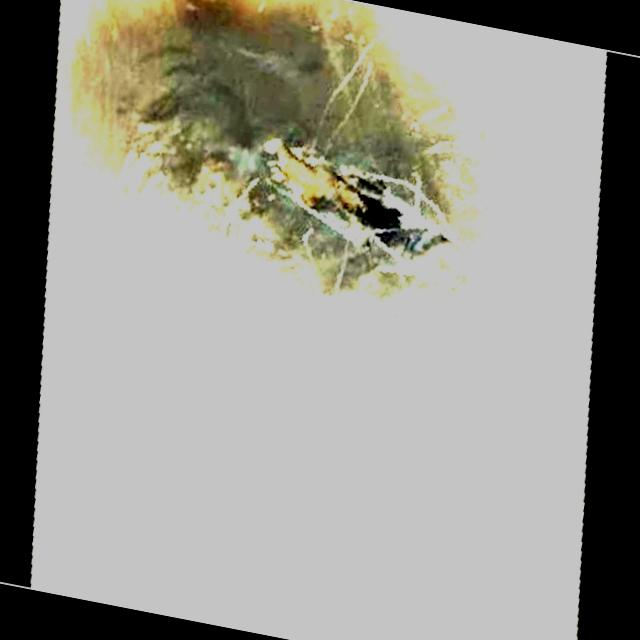crack: (37, 0, 524, 334)
